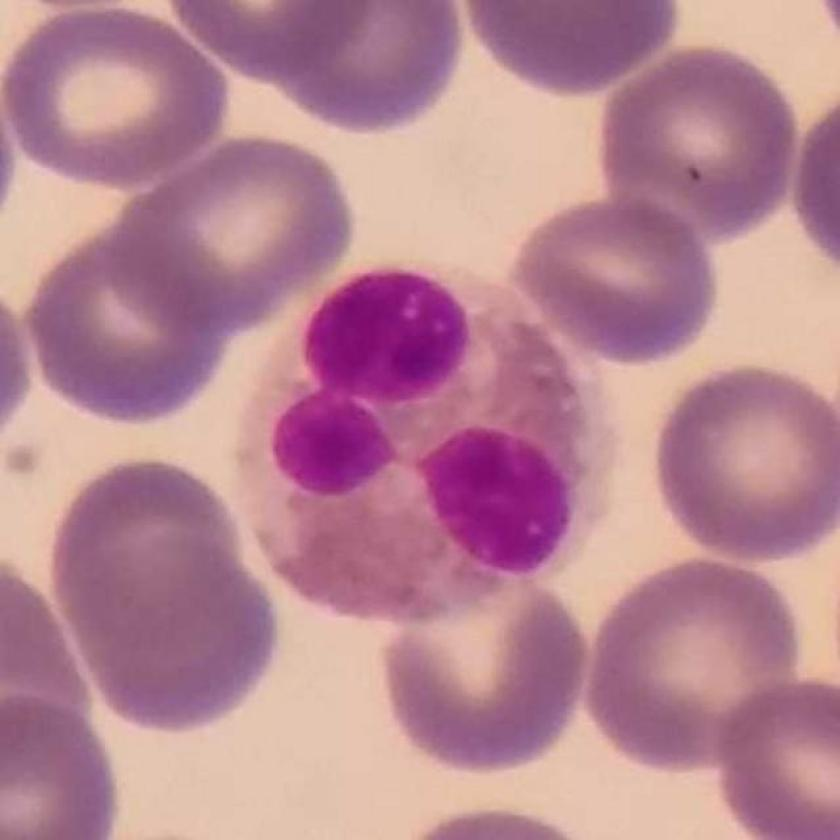eosinophil: (236, 268, 616, 629)
